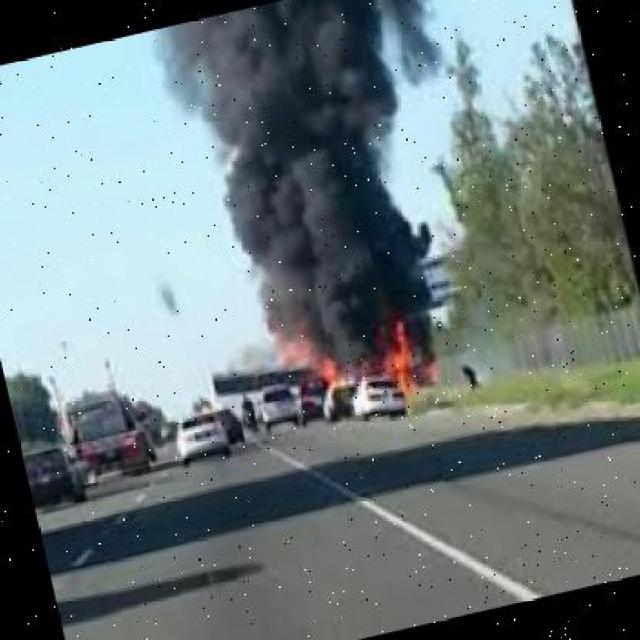fire: (269, 295, 443, 434)
